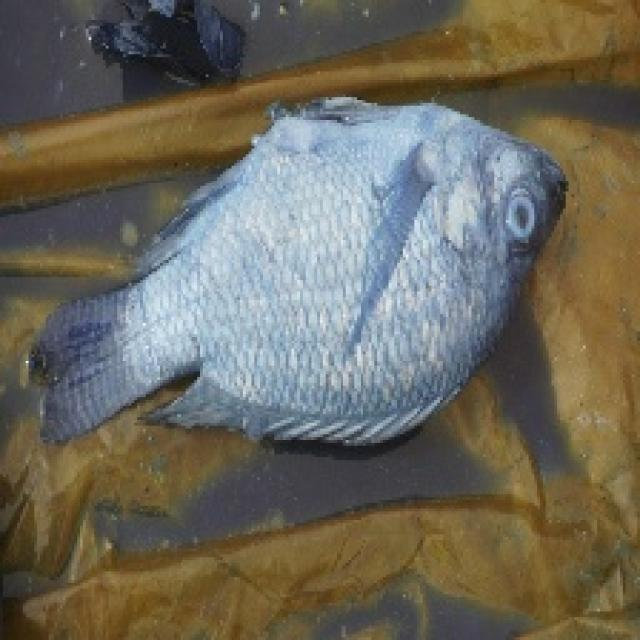Non-Fresh: (188, 94, 576, 399), (492, 176, 548, 258)
